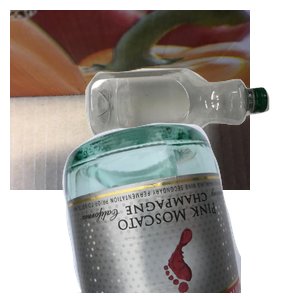cardboard: (10, 10, 250, 190)
glass: (60, 120, 300, 300)
plastic: (83, 66, 300, 201)
trash: (83, 163, 276, 300)
